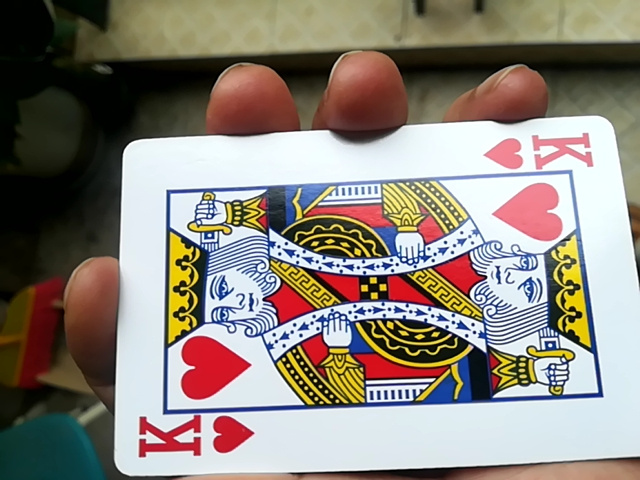hx k: (109, 123, 635, 478)
